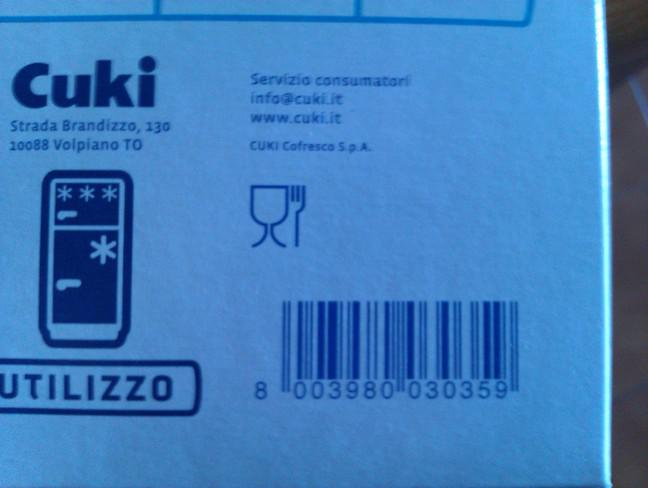Barkod: (235, 285, 543, 414)
